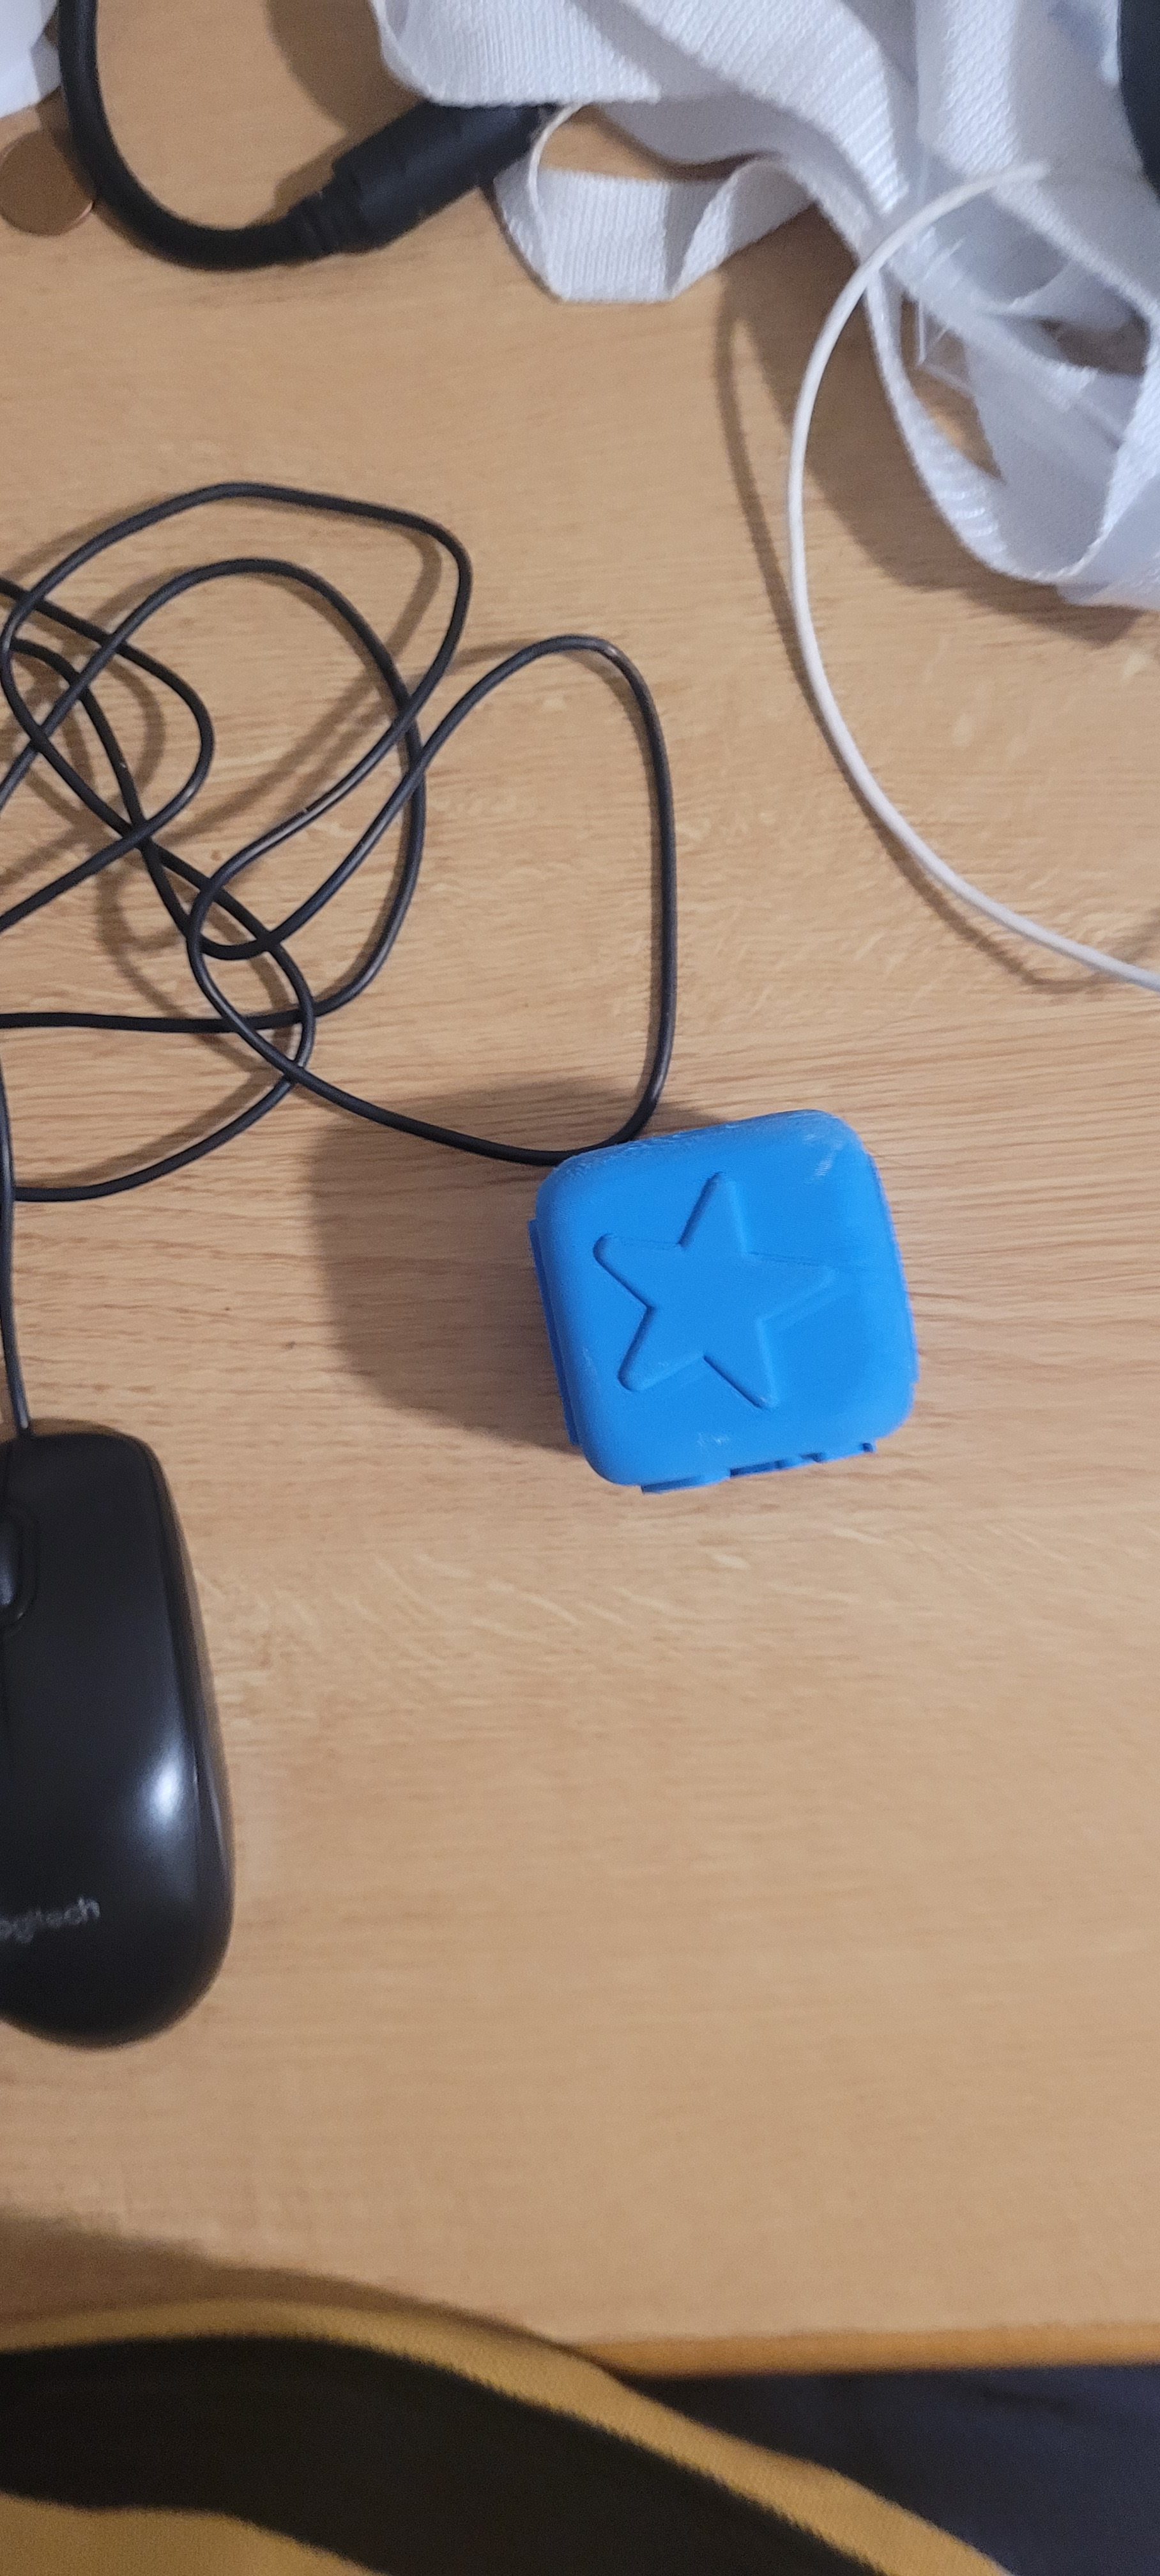Star: (575, 1135, 848, 1457)
